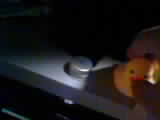duck: (110, 60, 147, 98)
